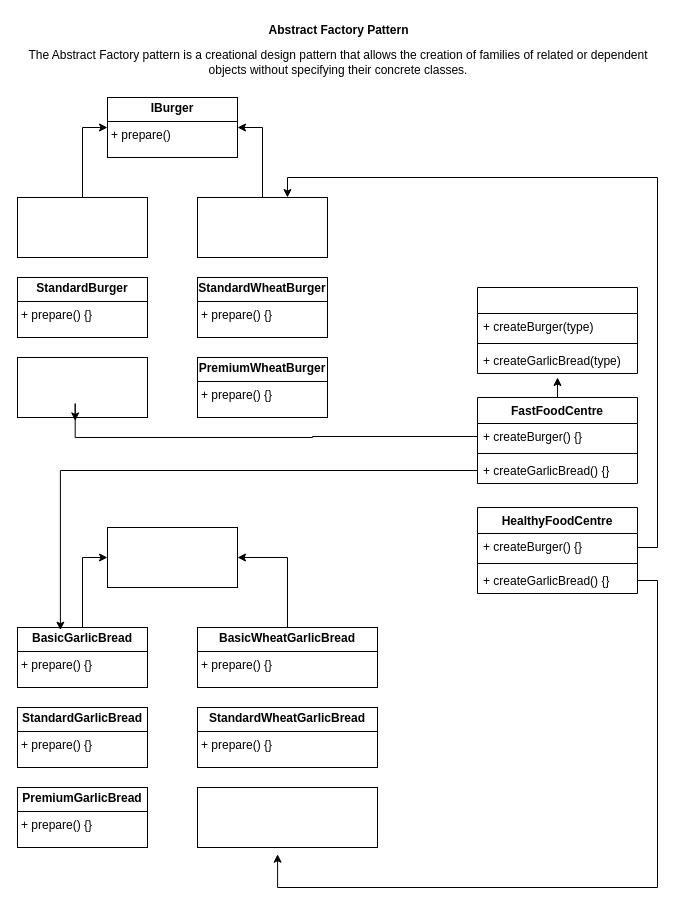
Image size: 683x913. Some labels were removed from this diagram. Each missing label, with the box of its shape:
BasicBurger + prepare() {}: (16, 196, 148, 258)
BasicWheatBurger + prepare() {}: (196, 196, 328, 258)
IFactory: (476, 286, 638, 374)
IGarlicBread + prepare(): (106, 526, 238, 588)
PremiumBurger + prepare() {}: (16, 356, 148, 418)
PremiumWheatGarlicBread + prepare() {}: (196, 786, 378, 848)
